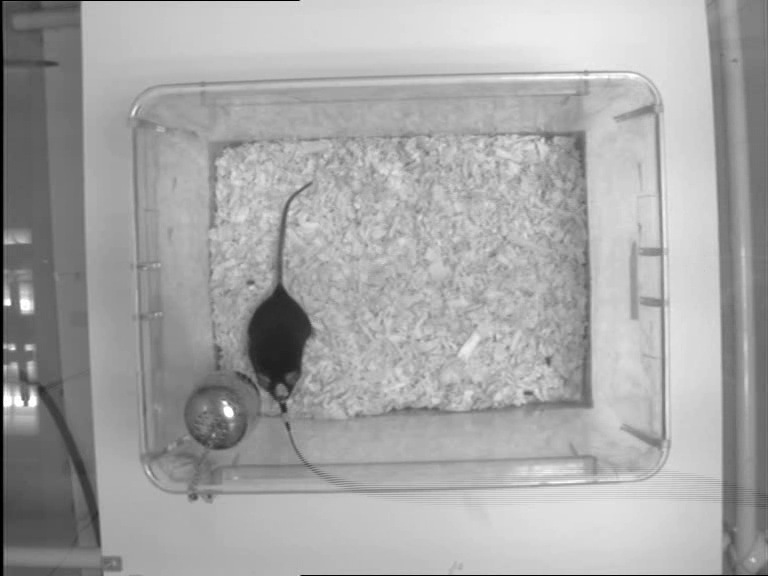mice: (234, 181, 316, 406)
